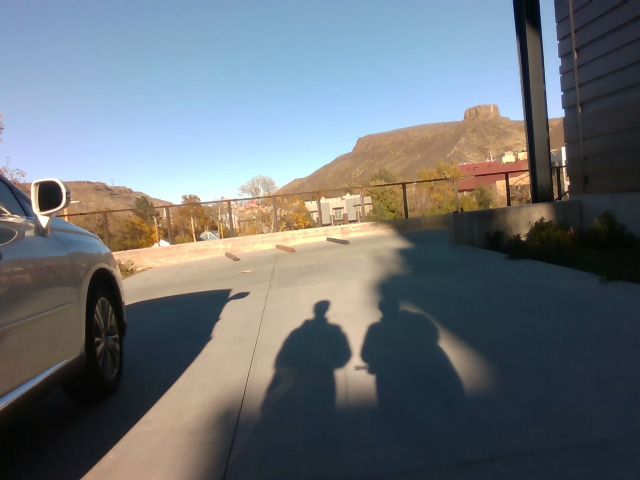dunnage: (220, 227, 355, 273)
